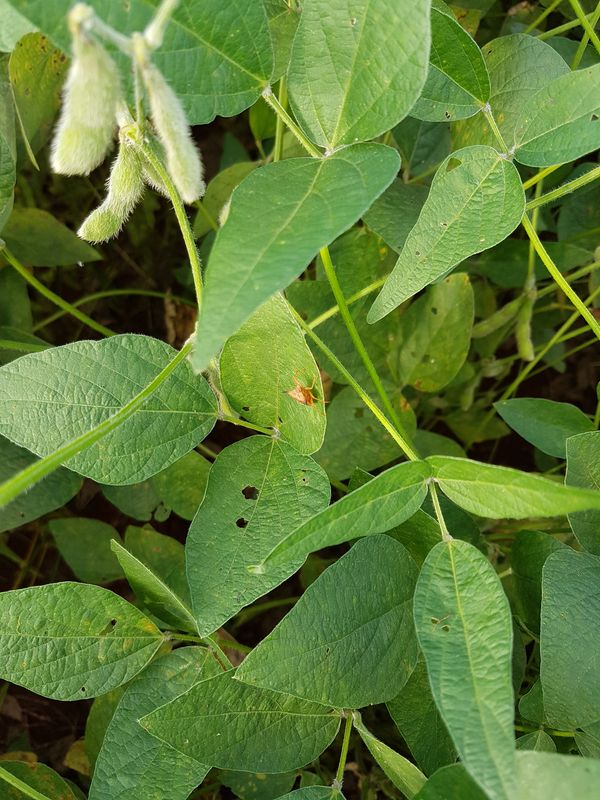Euschistus_heros_adulto: (277, 366, 333, 415)
